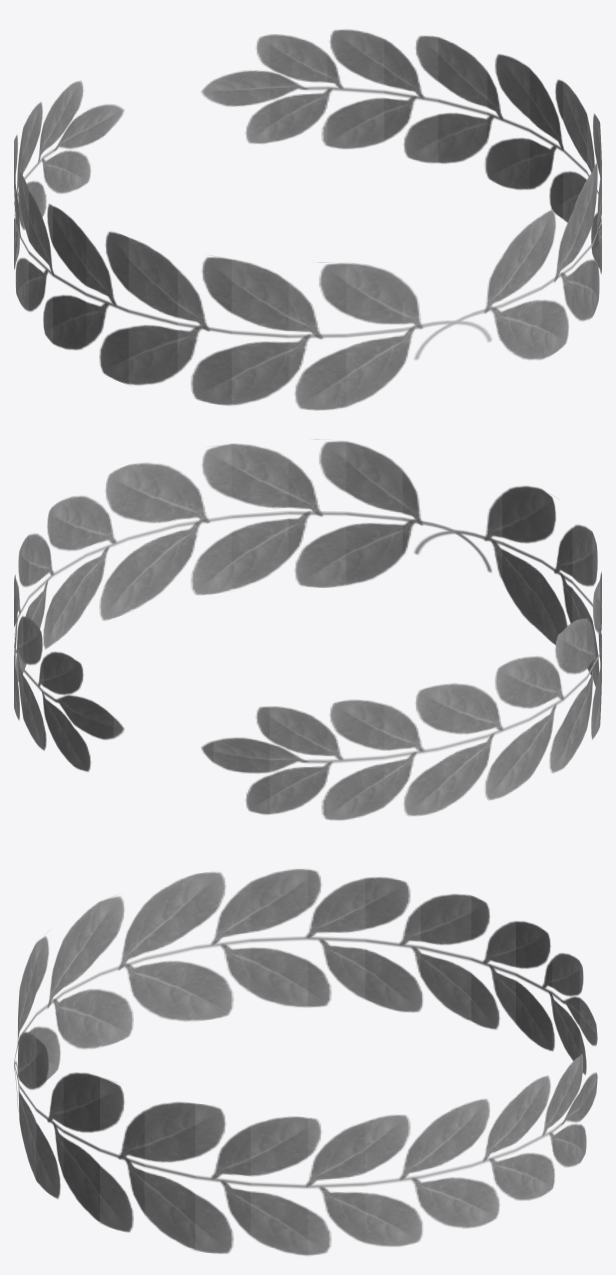
The model's file is laurels.gltf.
The picture shows the model from 3 angles, top to bottom: view 1: azimuth 30°, elevation 25°; view 2: azimuth 150°, elevation 25°; view 3: azimuth 270°, elevation 25°; orthographic projection.
Parts seen in each view (by area): view 1: hat; view 2: hat; view 3: hat.
Part boxes in pixels (x1,y1,x2,y2): hat: (14,29,601,410); hat: (14,439,601,820); hat: (14,869,597,1255).
Bounding box in the file's own units: 0.36 × 0.1 × 0.36.
